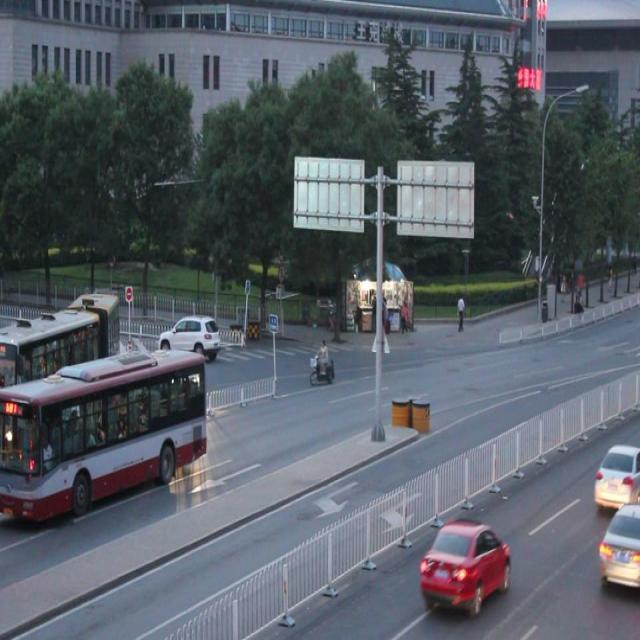car: (419, 516, 510, 619), (596, 505, 640, 584), (592, 441, 640, 507), (162, 309, 223, 359), (121, 332, 167, 387)
van: (1, 348, 205, 528), (1, 291, 119, 434)
